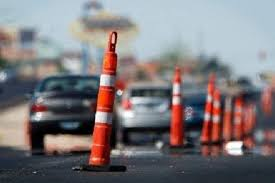cones: (82, 29, 130, 172), (164, 65, 192, 148), (197, 76, 211, 145)
